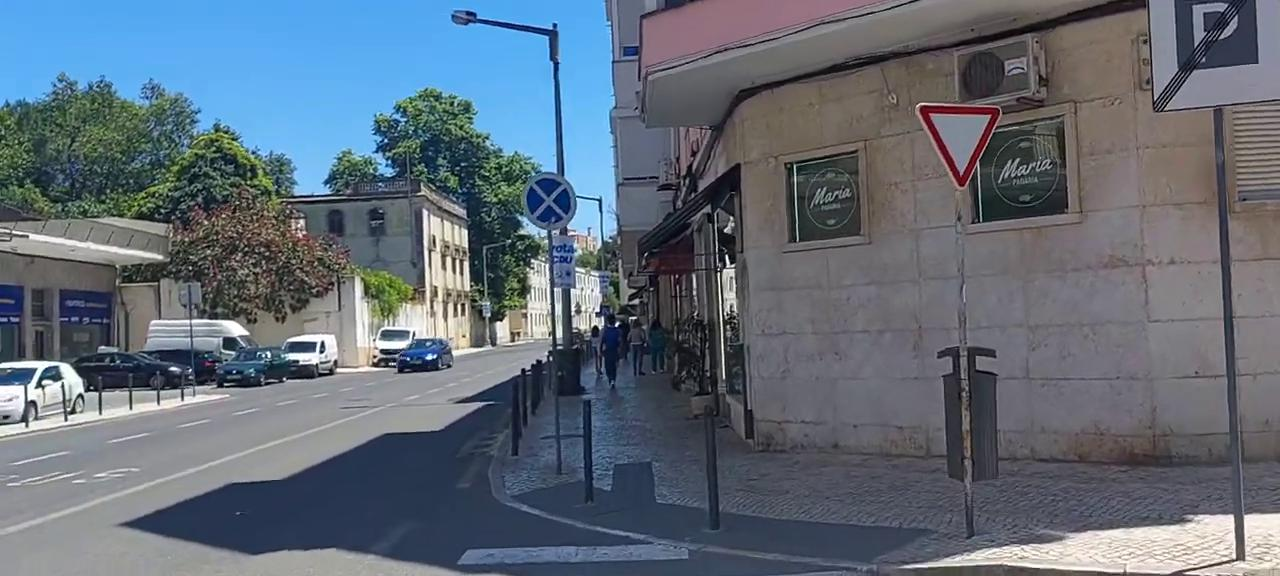cedencia de passagem: (915, 64, 1036, 198)
paragem e estacionamento proibido: (518, 170, 584, 237)
